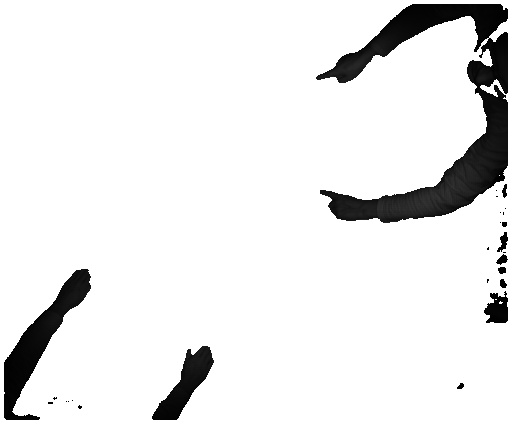hand: (316, 46, 374, 87), (320, 186, 373, 223), (55, 264, 95, 311), (180, 344, 215, 385)
